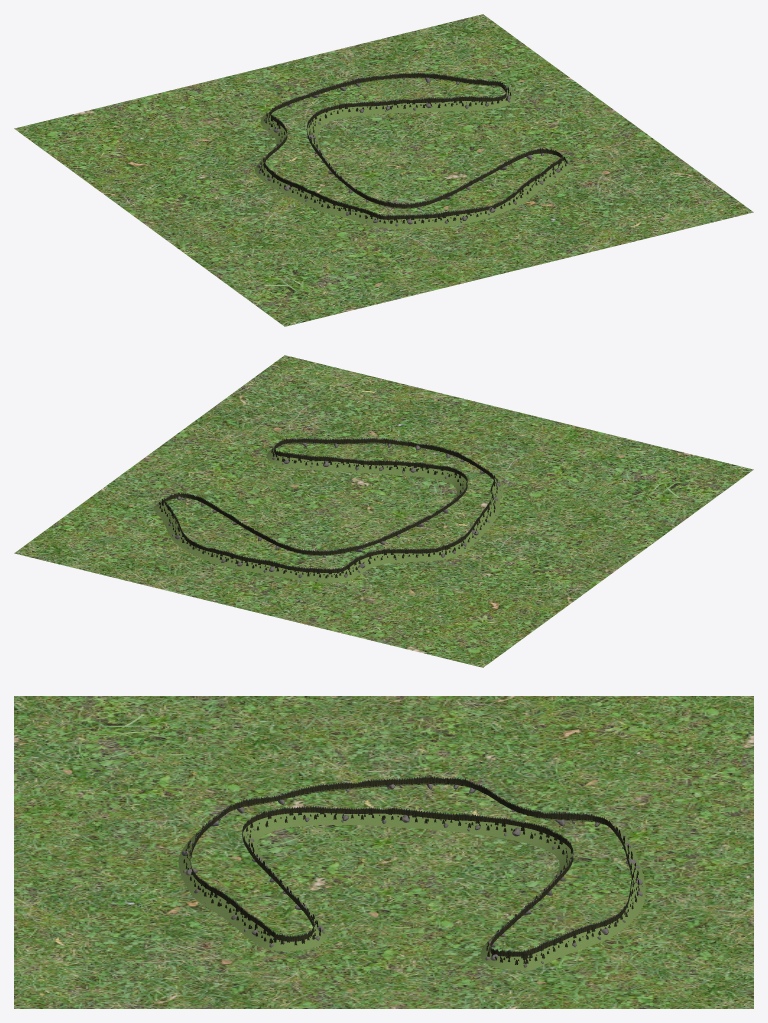
3 views of the same model, one above another, from view 1: azimuth 30°, elevation 25°; view 2: azimuth 150°, elevation 25°; view 3: azimuth 270°, elevation 25° (orthographic). The views are drawn at different scales.
Parts seen in each view (by area): view 1: Plane, Wall_06, Wall_01, Wall_00, Wall_02, Wall_05, Wall_07, Wall_09, Wall_08, Wall_04; view 2: Plane, Wall_09, Wall_08, Wall_03, Wall_04, Wall_00, Wall_07, Wall_02, Wall_05, Wall_01; view 3: Plane, Wall_05, Wall_04, Wall_07, Wall_02, Wall_00, Wall_09, Wall_08, Wall_03, Wall_01, Wall_06, Trees_05 (+1 smaller).
Part boxes in pixels (box(x1,y1,x2,y2)): Plane: box(14, 14, 753, 326); Wall_06: box(349, 95, 506, 116); Wall_01: box(360, 202, 501, 228); Wall_00: box(256, 164, 365, 221); Wall_02: box(497, 152, 572, 212); Wall_05: box(307, 102, 351, 176); Wall_07: box(404, 72, 515, 105); Wall_09: box(255, 104, 287, 173); Wall_08: box(278, 73, 404, 108); Wall_04: box(333, 169, 460, 208); Plane: box(14, 355, 753, 667); Wall_09: box(320, 544, 454, 582); Wall_08: box(185, 540, 321, 582); Wall_03: box(266, 446, 397, 474); Wall_04: box(396, 461, 467, 520); Wall_00: box(448, 485, 501, 556); Wall_07: box(153, 492, 191, 549); Wall_02: box(269, 438, 411, 451); Wall_05: box(282, 516, 426, 556); Wall_01: box(410, 441, 503, 494); Plane: box(14, 696, 753, 1008); Wall_05: box(393, 807, 573, 872); Wall_04: box(242, 806, 394, 870); Wall_07: box(481, 912, 627, 970); Wall_02: box(184, 871, 297, 951); Wall_00: box(257, 775, 460, 804); Wall_09: box(458, 778, 624, 835); Wall_08: box(613, 825, 645, 924); Wall_03: box(260, 861, 326, 950); Wall_01: box(178, 797, 261, 882); Wall_06: box(480, 862, 570, 957); Trees_05: box(397, 810, 572, 870).
Size of the model in its own units: 1400 by 38.03 by 1400.
